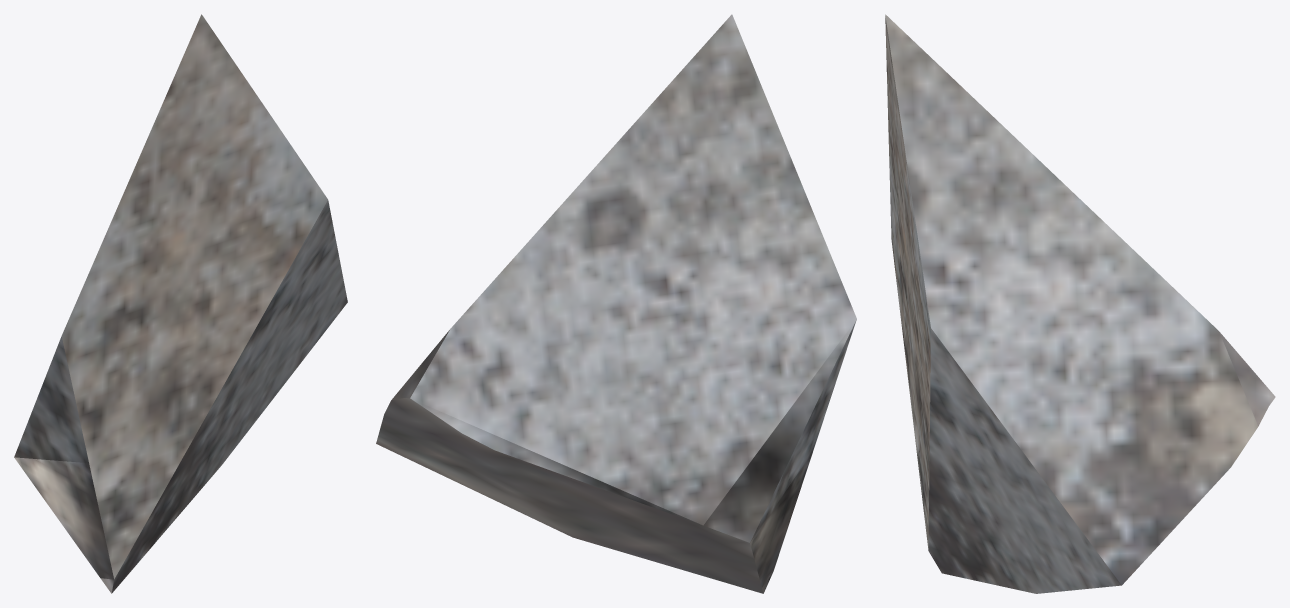
The model's file is Asteroid_Medium_001_02_003_03_004.fbx.
3 views of the same model, side by side, from view 1: azimuth 30°, elevation 25°; view 2: azimuth 150°, elevation 25°; view 3: azimuth 270°, elevation 25° (orthographic). The views are drawn at different scales.
Visible parts, largest first — view 1: Asteroid_Medium_001_02_003_03_004; view 2: Asteroid_Medium_001_02_003_03_004; view 3: Asteroid_Medium_001_02_003_03_004.
Boxes of the visible parts, x1,y1,x2,y2 form: Asteroid_Medium_001_02_003_03_004: (14,14,347,593); Asteroid_Medium_001_02_003_03_004: (376,14,856,593); Asteroid_Medium_001_02_003_03_004: (885,14,1275,593).
Bounding box in the file's own units: 2.93 × 4.09 × 2.45.
